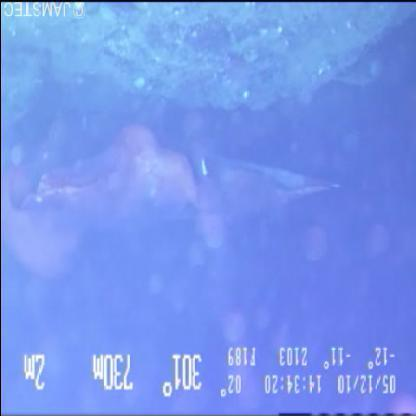Bio: (1, 114, 347, 282)
